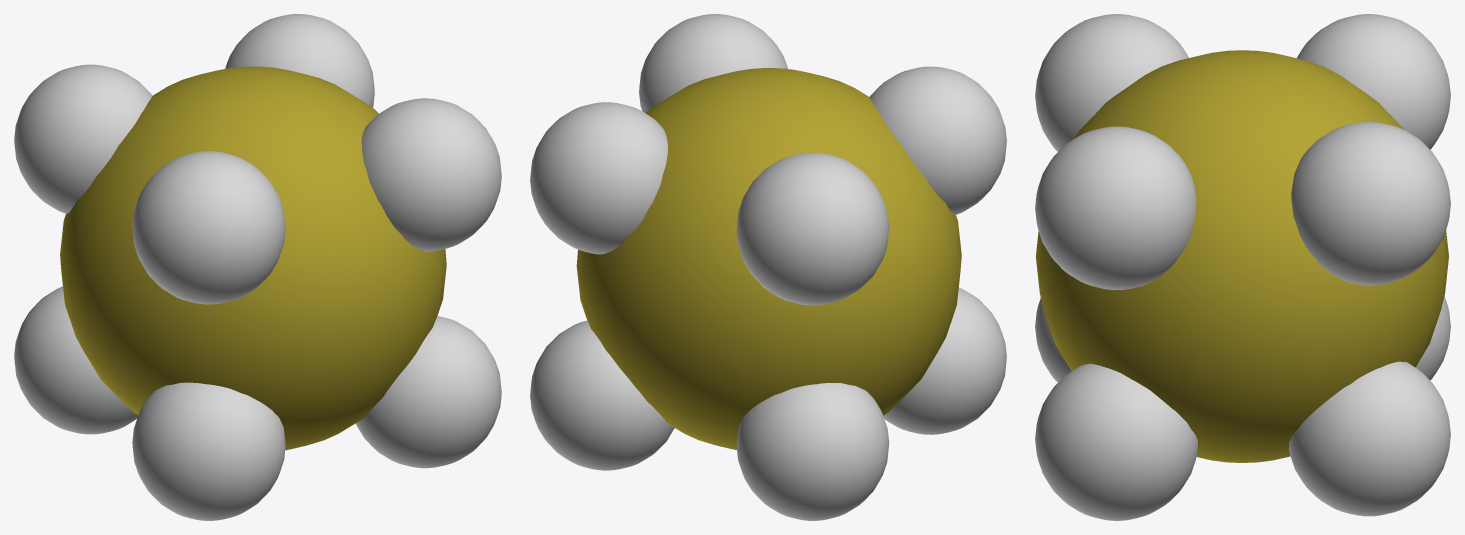
The model's file is crate_spheres.fbx.
The picture shows the model from 3 angles, left to right: view 1: azimuth 30°, elevation 25°; view 2: azimuth 150°, elevation 25°; view 3: azimuth 270°, elevation 25°; orthographic projection. The views are drawn at different scales.
Visible parts, largest first — view 1: Sphere014_001, Sphere011_001, Sphere008_001, Sphere010_001, Sphere007_001, Sphere012_001, Sphere009_001, Sphere013_001; view 2: Sphere014_001, Sphere012_001, Sphere009_001, Sphere013_001, Sphere006_001, Sphere011_001, Sphere008_001, Sphere010_001; view 3: Sphere014_001, Sphere010_001, Sphere013_001, Sphere007_001, Sphere006_001, Sphere011_001, Sphere012_001, Sphere009_001, Sphere008_001.
Boxes of the visible parts, left/top/right/bottom form: Sphere014_001: left=60, top=66, right=446, bottom=450; Sphere011_001: left=132, top=151, right=285, bottom=304; Sphere008_001: left=132, top=382, right=285, bottom=520; Sphere010_001: left=361, top=98, right=501, bottom=251; Sphere007_001: left=355, top=316, right=501, bottom=468; Sphere012_001: left=14, top=64, right=152, bottom=213; Sphere009_001: left=14, top=286, right=137, bottom=434; Sphere013_001: left=225, top=14, right=374, bottom=107; Sphere014_001: left=576, top=68, right=961, bottom=449; Sphere012_001: left=736, top=152, right=889, bottom=305; Sphere009_001: left=736, top=383, right=889, bottom=520; Sphere013_001: left=530, top=102, right=667, bottom=254; Sphere006_001: left=530, top=320, right=674, bottom=470; Sphere011_001: left=869, top=66, right=1006, bottom=214; Sphere008_001: left=883, top=287, right=1006, bottom=434; Sphere010_001: left=639, top=14, right=787, bottom=113; Sphere014_001: left=1035, top=50, right=1448, bottom=462; Sphere010_001: left=1035, top=126, right=1196, bottom=289; Sphere013_001: left=1291, top=122, right=1450, bottom=285; Sphere007_001: left=1035, top=363, right=1197, bottom=520; Sphere006_001: left=1289, top=361, right=1450, bottom=516; Sphere011_001: left=1035, top=14, right=1188, bottom=151; Sphere012_001: left=1297, top=14, right=1450, bottom=149; Sphere009_001: left=1415, top=296, right=1450, bottom=380; Sphere008_001: left=1035, top=298, right=1071, bottom=382.
Size of the model in its own units: 44.7 by 44.19 by 43.23.
